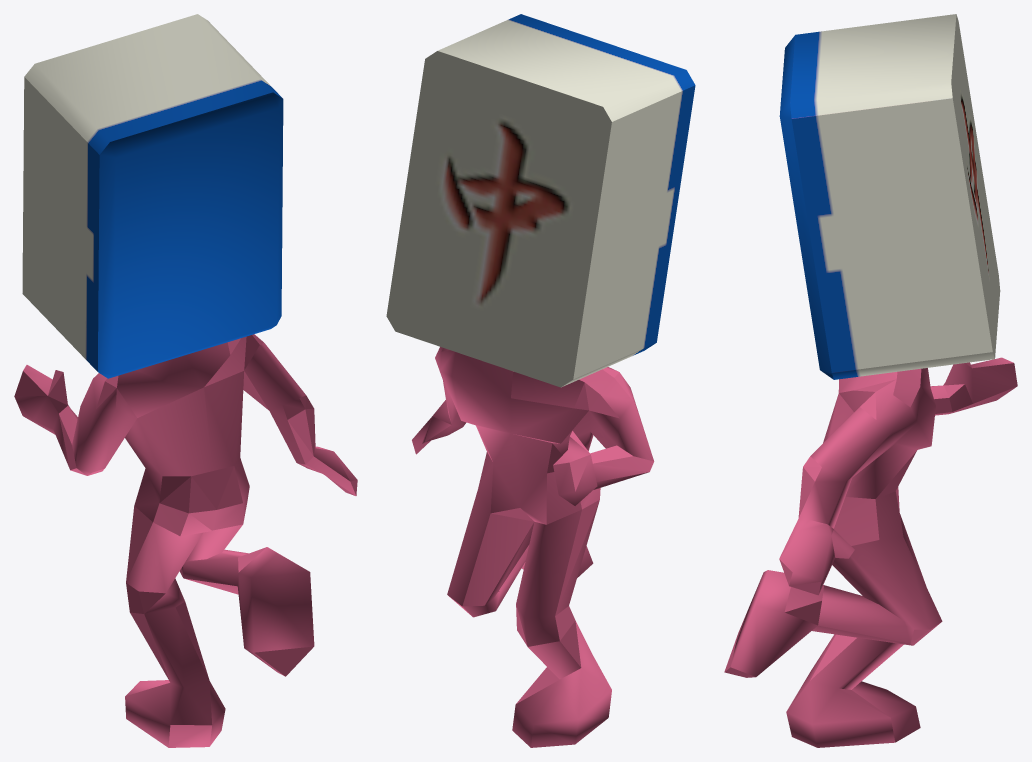
File: mjm.ico.obj
The picture shows the model from 3 angles, left to right: view 1: azimuth 30°, elevation 25°; view 2: azimuth 150°, elevation 25°; view 3: azimuth 270°, elevation 25°; orthographic projection. The views are drawn at different scales.
Bounding box in the file's own units: 1.97 × 4.81 × 1.86.
1 material, 1 textured.
